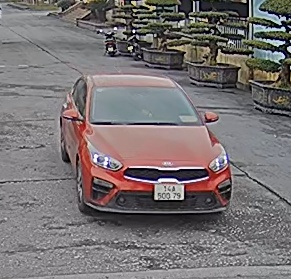vehicle plate: (152, 180, 185, 202)
